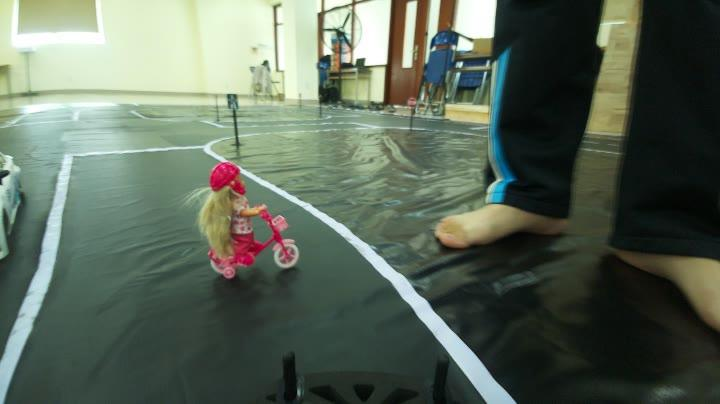pedestrian: (188, 160, 304, 276)
